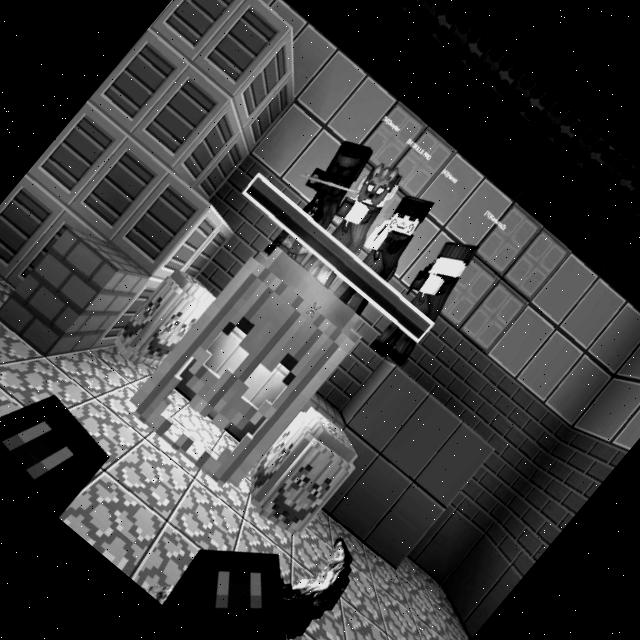Head: (348, 155, 406, 214), (428, 228, 482, 284), (324, 134, 376, 186), (385, 186, 435, 238)
Player: (362, 225, 492, 368), (256, 128, 383, 268), (292, 153, 417, 290), (324, 182, 447, 316)
